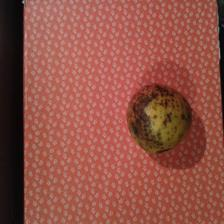Mango Rotten: (126, 86, 191, 154)
